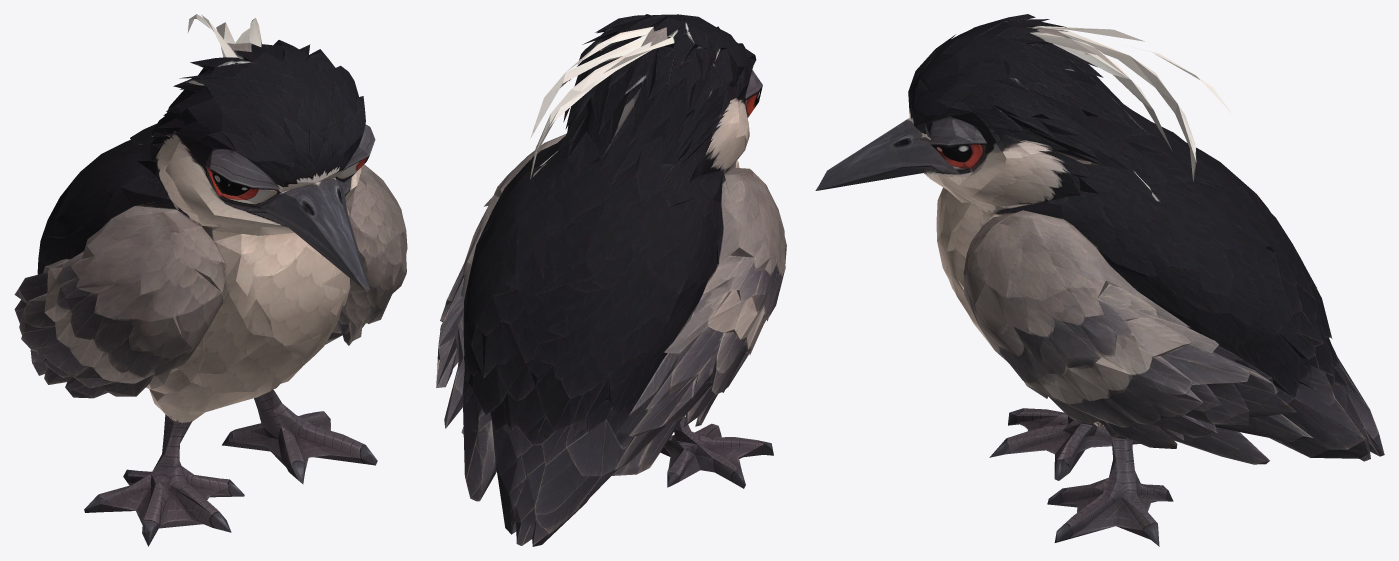
Rendered from night-heron.glb.
3 renders of one model, left to right at view 1: azimuth 30°, elevation 25°; view 2: azimuth 150°, elevation 25°; view 3: azimuth 270°, elevation 25°, orthographic. The views are drawn at different scales.
Bounding box in the file's own units: 0.4324 × 0.6 × 0.679.
1 material, 1 textured.
